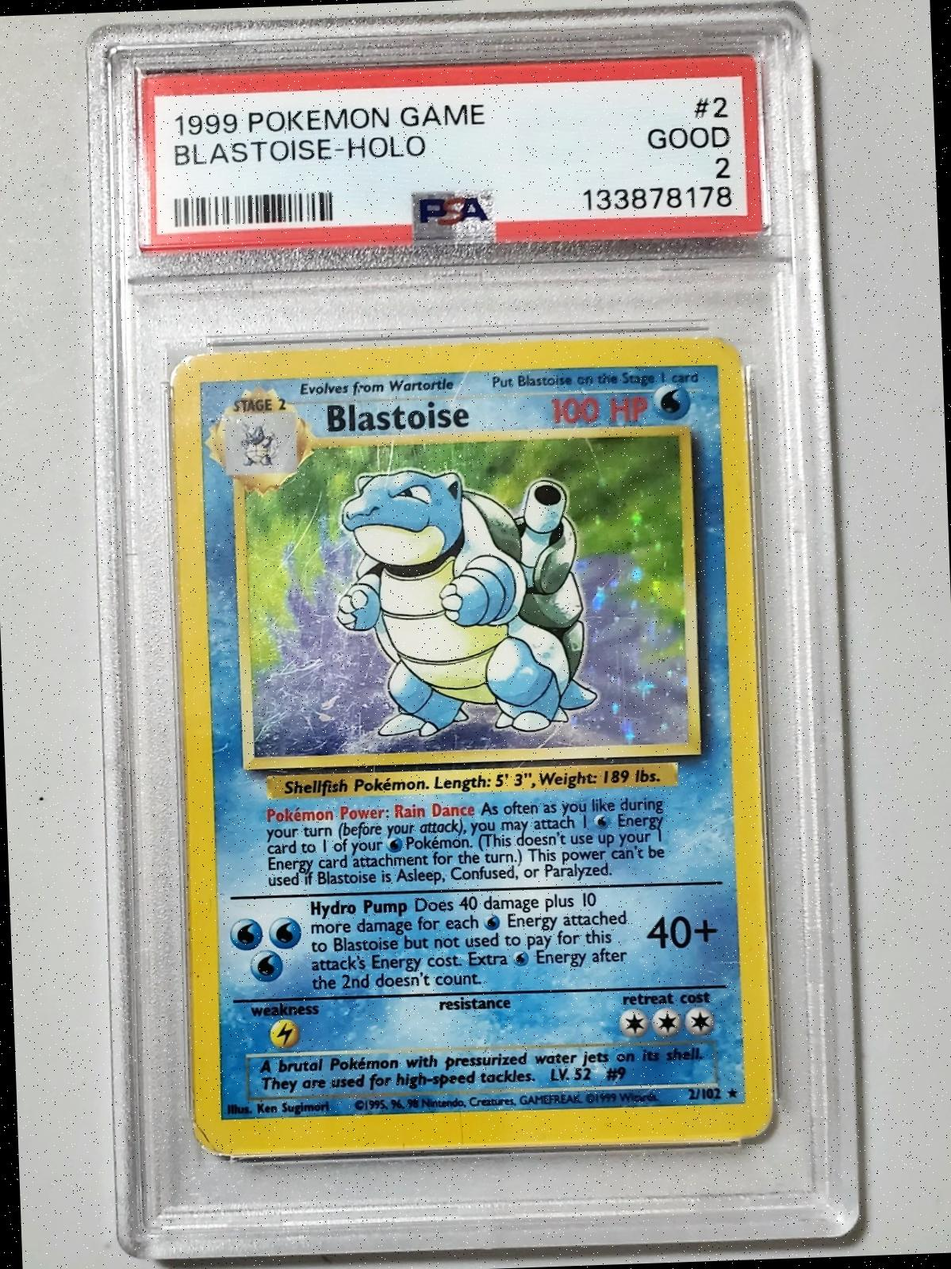card-2UtV: (169, 335, 773, 1156)
